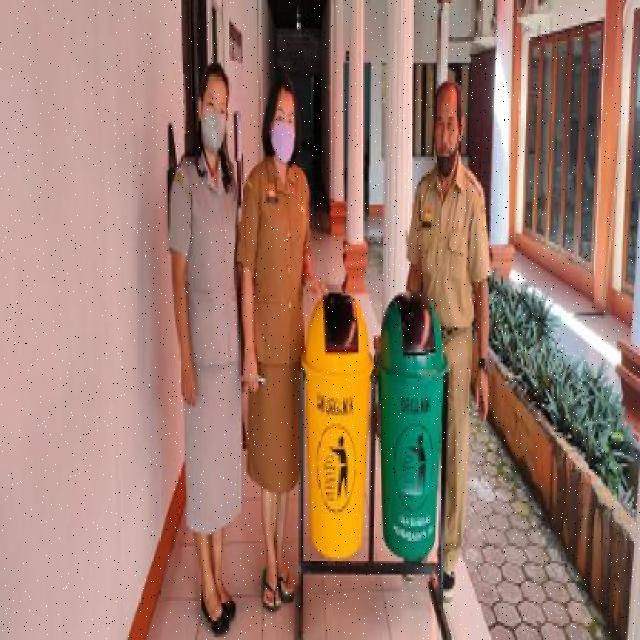garbage container: (299, 285, 378, 576), (376, 286, 453, 571)
